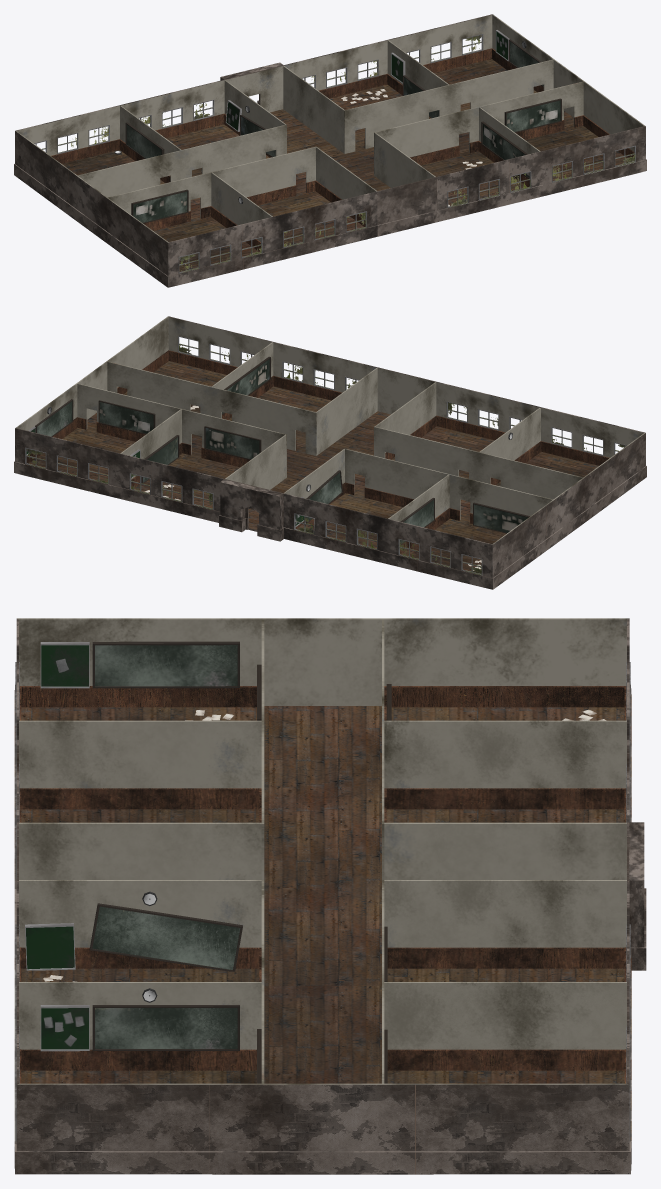
The model's file is 학교1층_수정전.fbx.
3 renders of one model, top to bottom at view 1: azimuth 30°, elevation 25°; view 2: azimuth 150°, elevation 25°; view 3: azimuth 270°, elevation 25°, orthographic. The views are drawn at different scales.
Parts seen in each view (by area): view 1: 건물, 벽, 창.001, 알림판1, 칠판, 알림판; view 2: 건물, 벽, 알림판1, 창.001, 칠판; view 3: 건물, 벽, 칠판, 알림판, 창.001, 알림판1.
Boxes of the visible parts, <box> form: 건물: <box>14,14,646,287</box>; 벽: <box>78,40,583,251</box>; 창.001: <box>34,34,635,273</box>; 알림판1: <box>131,98,561,223</box>; 칠판: <box>125,39,543,158</box>; 알림판: <box>225,30,509,131</box>; 건물: <box>14,316,646,589</box>; 벽: <box>77,342,582,554</box>; 알림판1: <box>98,356,529,533</box>; 창.001: <box>25,336,626,575</box>; 칠판: <box>35,399,434,544</box>; 건물: <box>14,618,646,1174</box>; 벽: <box>19,619,626,1083</box>; 칠판: <box>89,641,242,1050</box>; 알림판: <box>25,642,89,1051</box>; 창.001: <box>15,662,630,1141</box>; 알림판1: <box>257,664,391,1083</box>.
Size of the model in its own units: 4516 by 400 by 2577.
